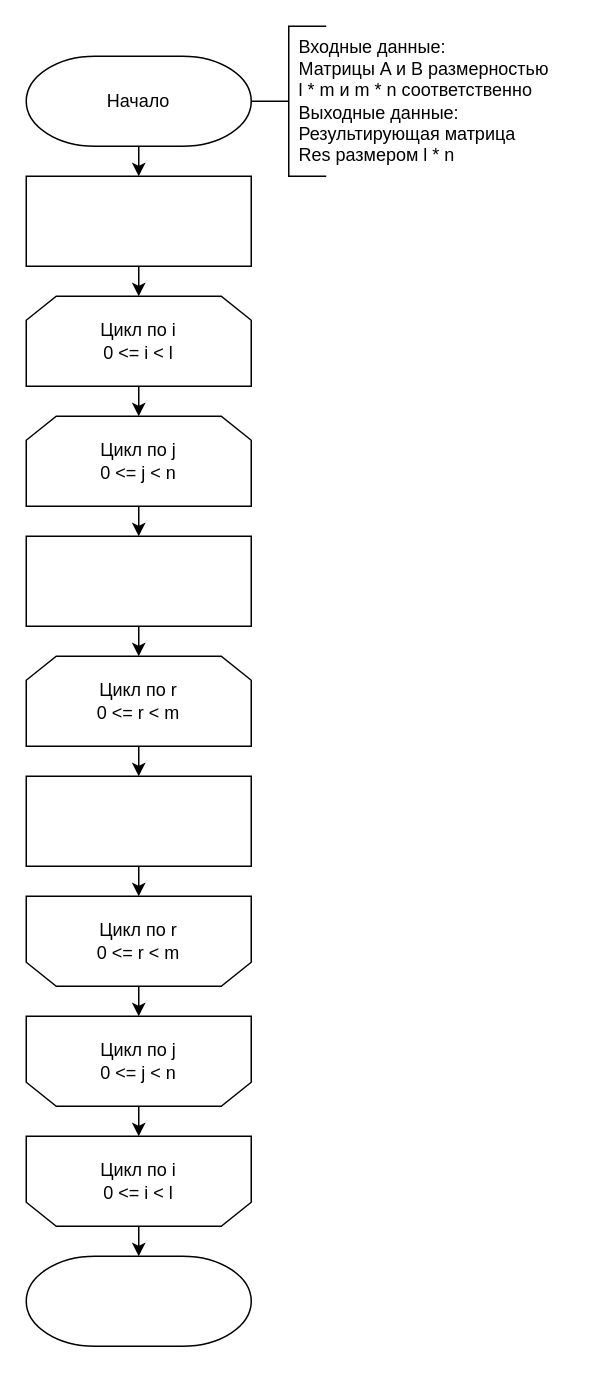
This 593x1373 diagram has some shape labels left out. Here are the shapes that lost their labels. From the top down, the centre of each, then its label:
pixel 138 220: Аллоцировать Res
pixel 138 580: Res ij = 0
pixel 138 820: Res ij = Res ij + A ir * B rj
pixel 138 1300: Конец
